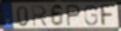0: (15, 5, 30, 27)
6: (50, 4, 65, 29)
F: (98, 4, 117, 27)
G: (84, 5, 100, 26)
P: (66, 4, 82, 28)
R: (31, 5, 49, 28)
